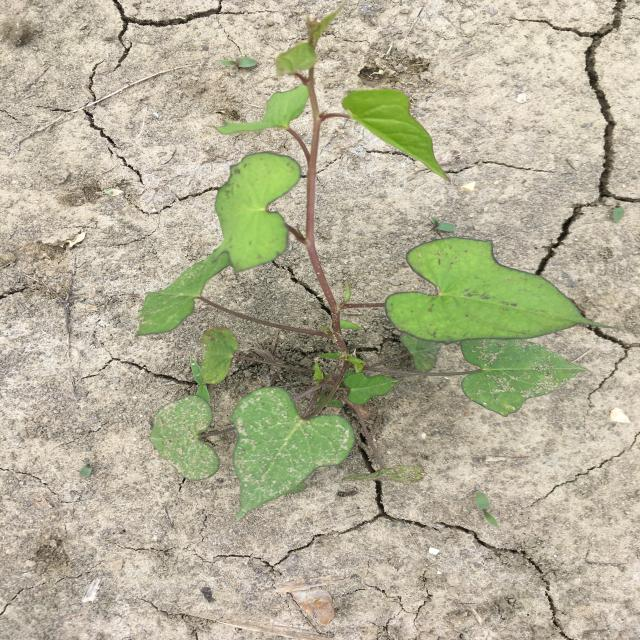MorningGlory: (134, 4, 618, 522)
